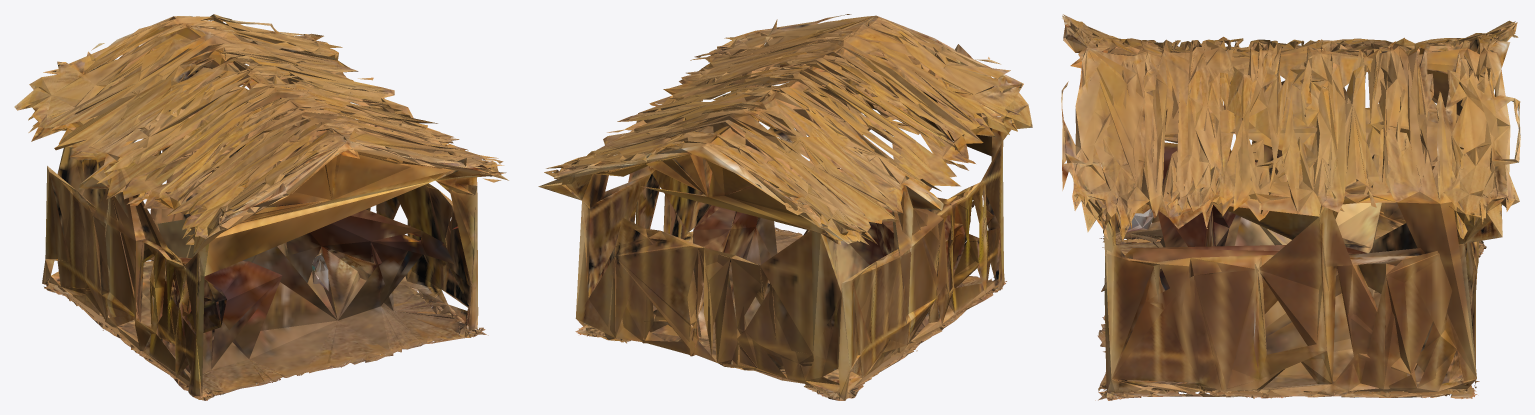
File: A_traditional_Indian__0501035832_texture.fbx
The picture shows the model from 3 angles, left to right: view 1: azimuth 30°, elevation 25°; view 2: azimuth 150°, elevation 25°; view 3: azimuth 270°, elevation 25°; orthographic projection. The views are drawn at different scales.
Parts seen in each view (by area): view 1: temp; view 2: temp; view 3: temp.
Part boxes in pixels (bbox=[...]): temp: bbox=[14, 14, 508, 400]; temp: bbox=[538, 14, 1032, 400]; temp: bbox=[1061, 14, 1520, 400].
Size of the model in its own units: 194 by 129 by 195.
1 material, 1 textured.
